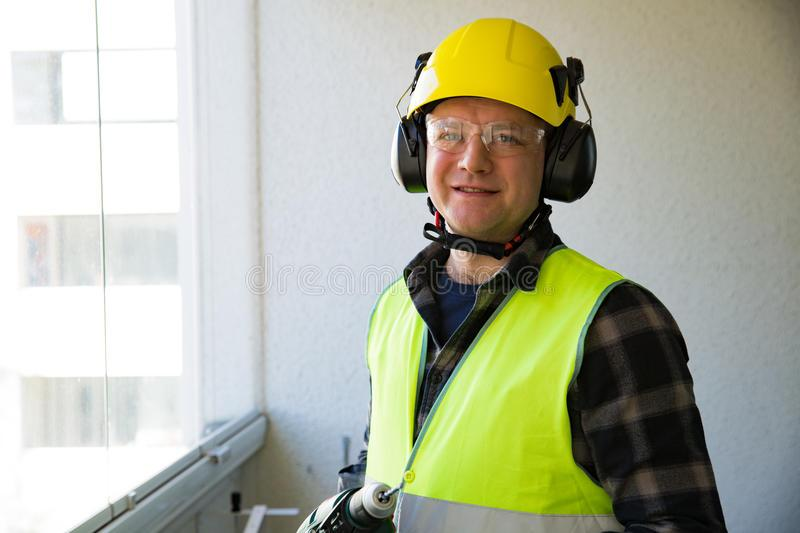helmet: (406, 16, 580, 128)
